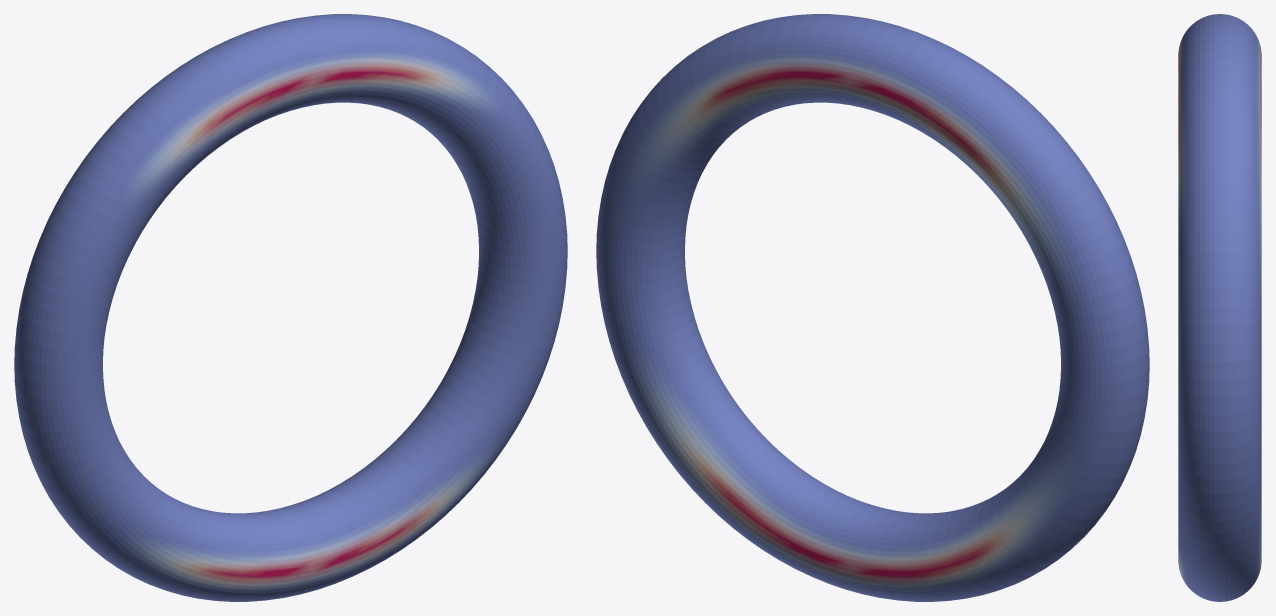
The picture shows the model from 3 angles, left to right: view 1: azimuth 30°, elevation 25°; view 2: azimuth 150°, elevation 25°; view 3: azimuth 270°, elevation 25°; orthographic projection. The views are drawn at different scales.
Parts seen in each view (by area): view 1: world; view 2: world; view 3: world.
Part boxes in pixels (x1,y1,x2,y2): world: (14, 14, 567, 601); world: (596, 14, 1149, 601); world: (1178, 14, 1261, 601).
Bounding box in the file's own units: 17.87 × 17.87 × 2.53.
